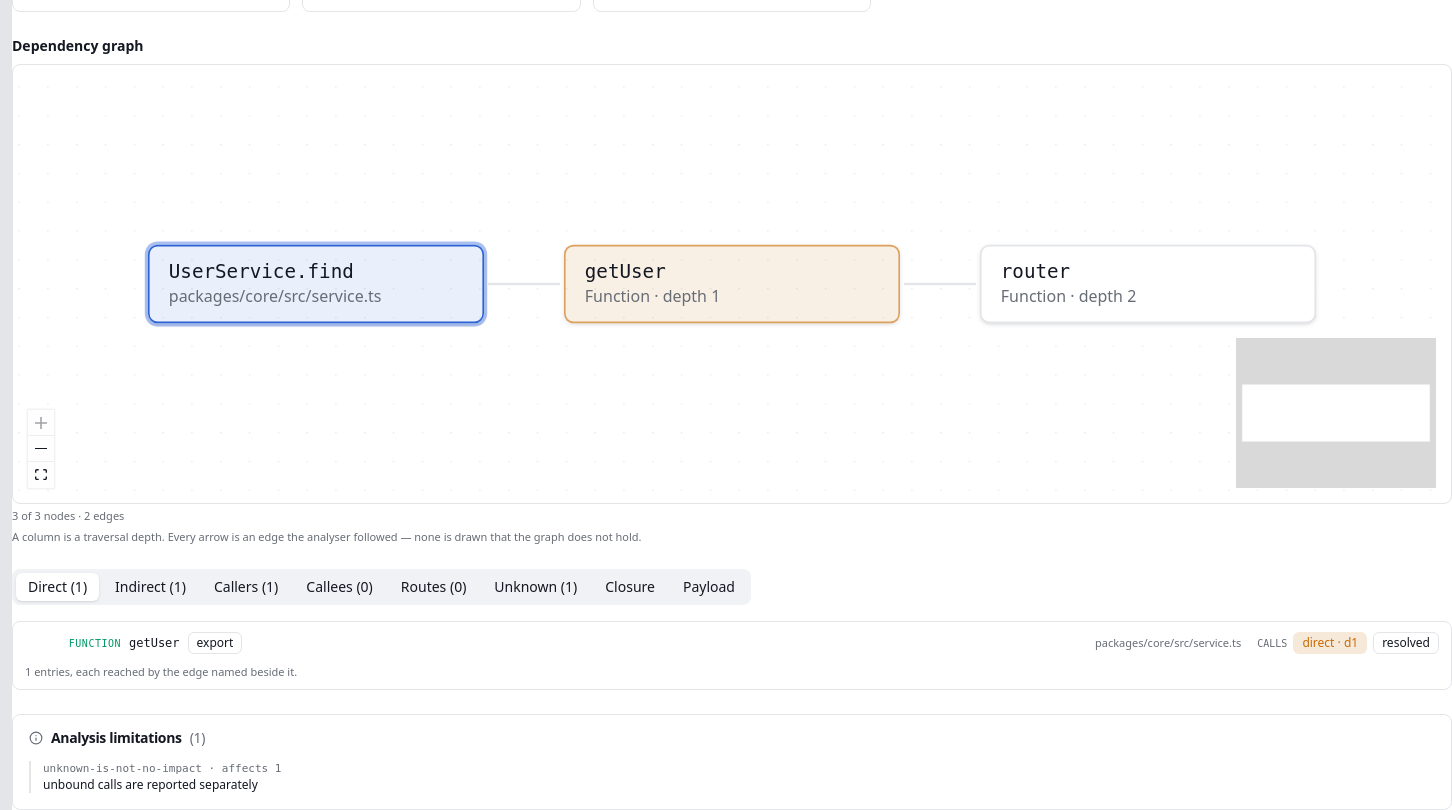
Test: Impact page › labels each affected node with its category, depth and the edge it was reached by
The width and height of the screenshot is (1452, 810).
(page scrolled)
Expected: the text "direct · d1" is shown, x1=1293 y1=632 x2=1367 y2=654
Click the tab "Indirect (1)" at {"x": 151, "y": 587}, box x1=103 y1=573 x2=198 y2=601
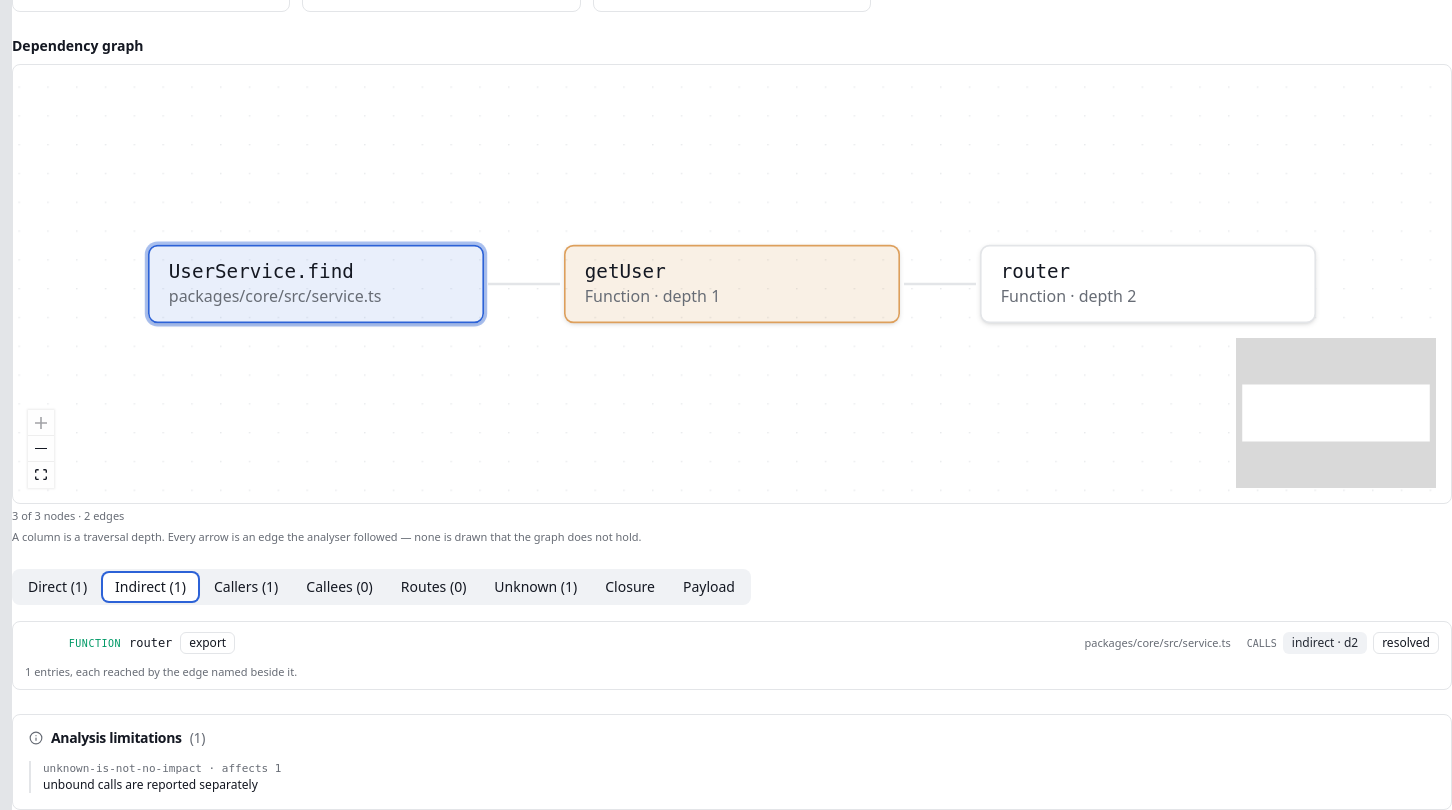
Now the text "indirect · d2" is shown, box x1=1283 y1=632 x2=1367 y2=654
